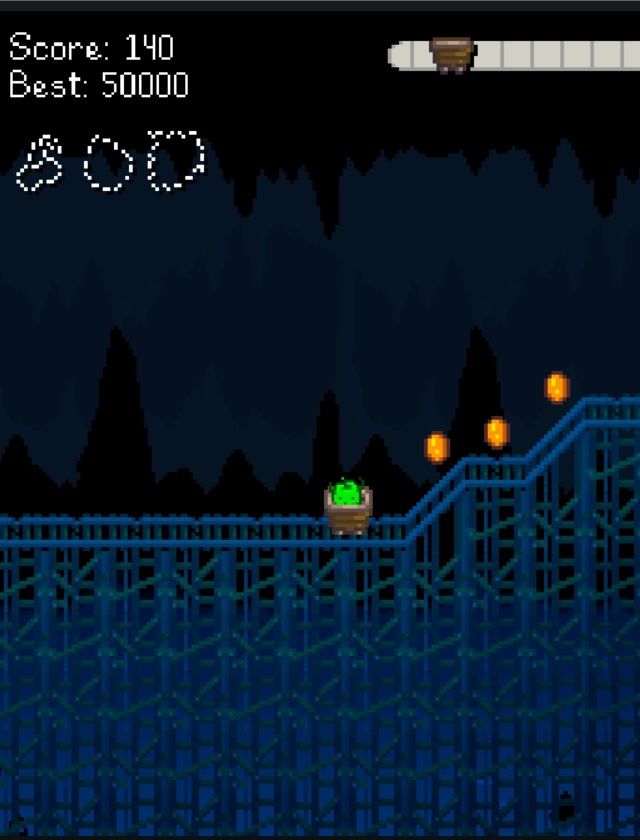coins: (485, 416, 509, 449), (545, 371, 569, 404), (426, 432, 448, 464)
minecart: (320, 477, 370, 545)
tracks: (0, 468, 467, 561), (407, 397, 639, 522)
